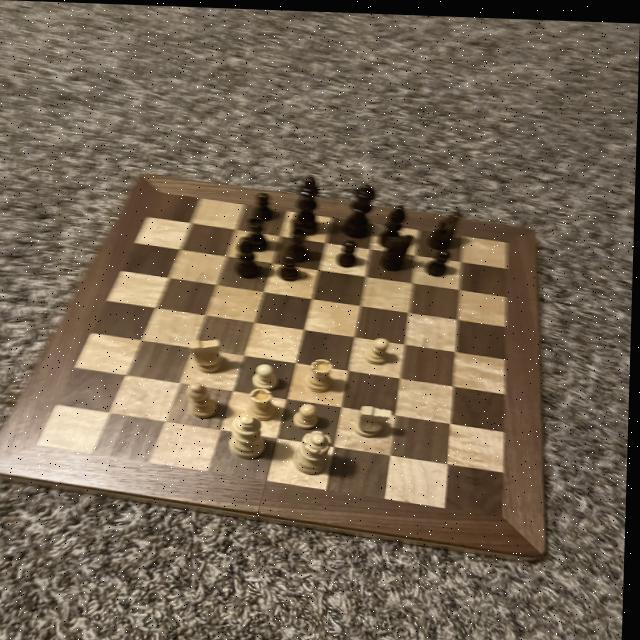bishop: (377, 199, 410, 245), (234, 233, 265, 278)
black-bishop: (290, 170, 325, 235)
black-king: (378, 229, 418, 271), (428, 208, 466, 251)
black-knight: (426, 245, 456, 277), (249, 188, 278, 221), (278, 249, 306, 282), (335, 238, 363, 266)
black-pawn: (340, 179, 379, 238)
black-queen: (244, 212, 273, 251), (286, 222, 314, 261)
black-rook: (186, 376, 223, 421)
white-bishop: (295, 426, 341, 478), (230, 409, 269, 459)
white-king: (352, 398, 395, 438), (186, 335, 230, 374)
white-knight: (363, 331, 394, 366), (294, 398, 324, 429), (253, 358, 281, 391)
white-queen: (306, 354, 339, 395), (248, 383, 281, 420)
